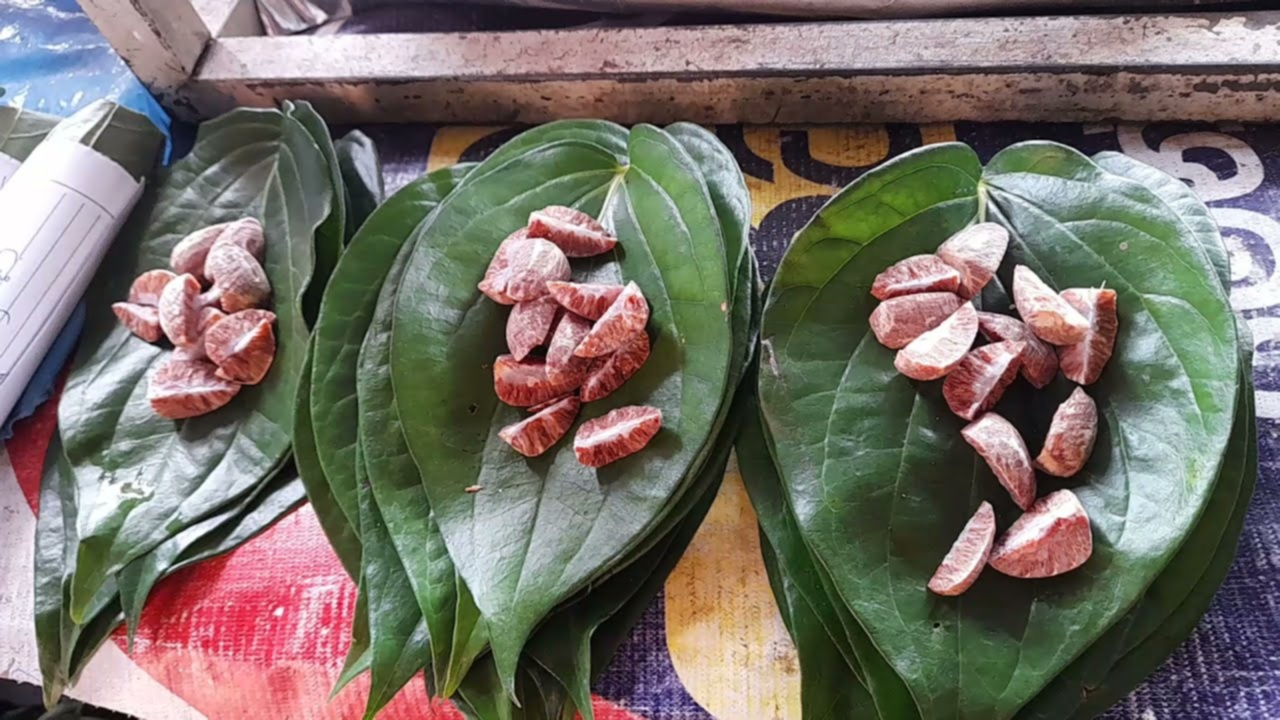bulathwita: (758, 138, 1260, 718), (305, 111, 755, 714), (31, 93, 343, 711)
